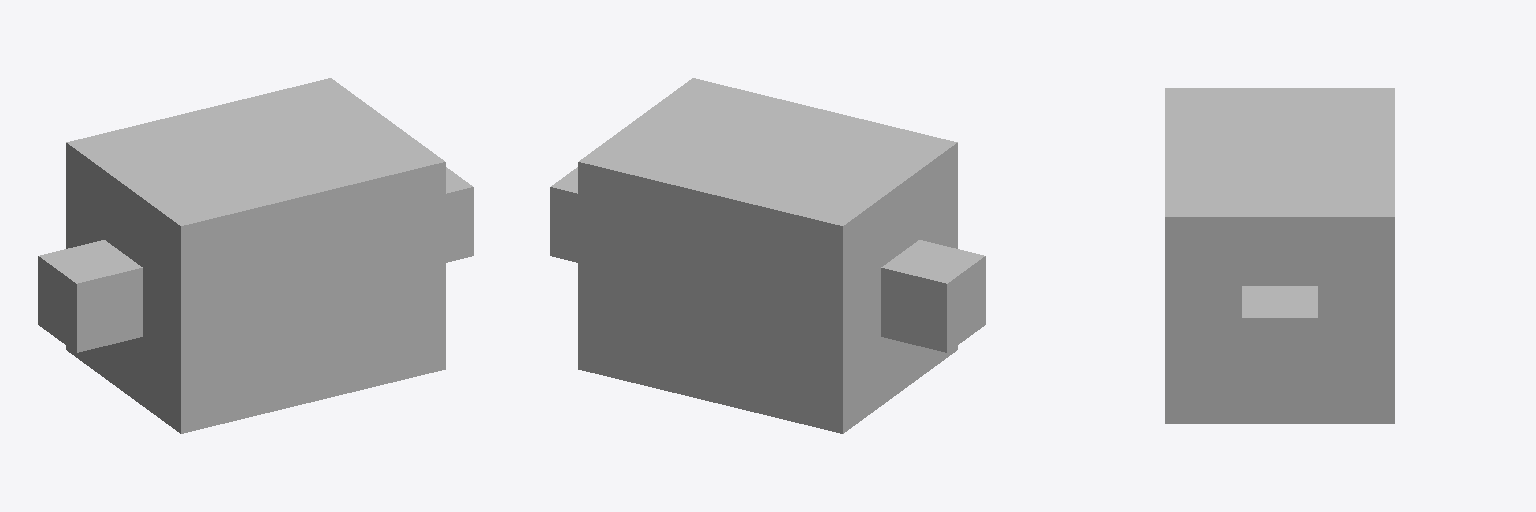
Rendered from meat.obj.
The picture shows the model from 3 angles: view 1: azimuth 30°, elevation 25°; view 2: azimuth 150°, elevation 25°; view 3: azimuth 270°, elevation 25°; orthographic projection.
Bounding box in the file's own units: 6 × 3 × 3.